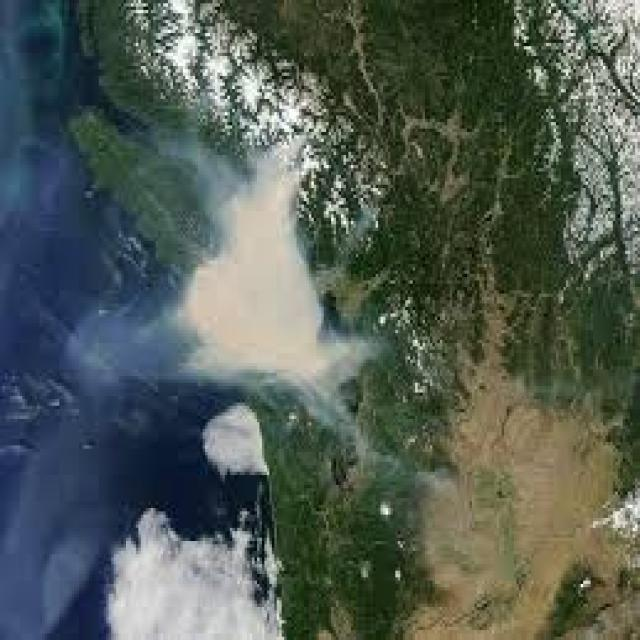Smoke: (202, 230, 295, 366)
